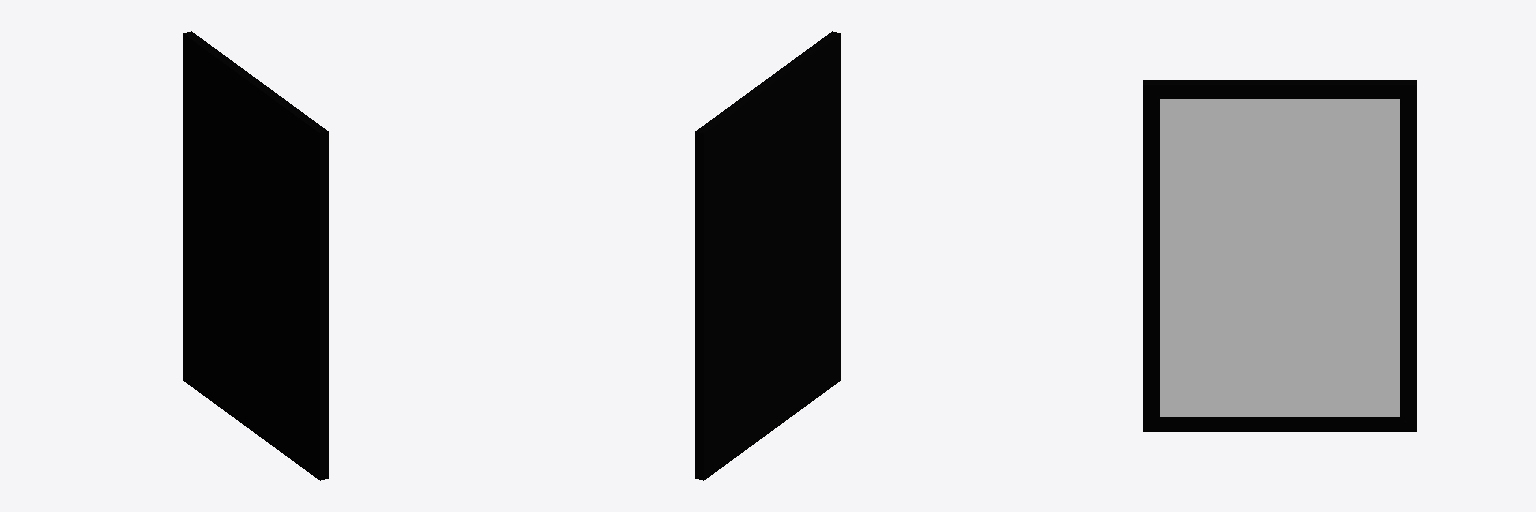
The model's file is subway_picture_frame.obj.
3 views of the same model, side by side, from view 1: azimuth 30°, elevation 25°; view 2: azimuth 150°, elevation 25°; view 3: azimuth 270°, elevation 25° (orthographic).
Parts seen in each view (by area): view 1: Box046_Mesh.002; view 2: Box046_Mesh.002; view 3: Box046_Mesh.002.
Boxes of the visible parts, <box> form: Box046_Mesh.002: <box>183,31,328,480</box>; Box046_Mesh.002: <box>695,31,840,480</box>; Box046_Mesh.002: <box>1143,80,1416,431</box>.
Bounding box in the file's own units: 0.0185 × 0.7 × 0.5.